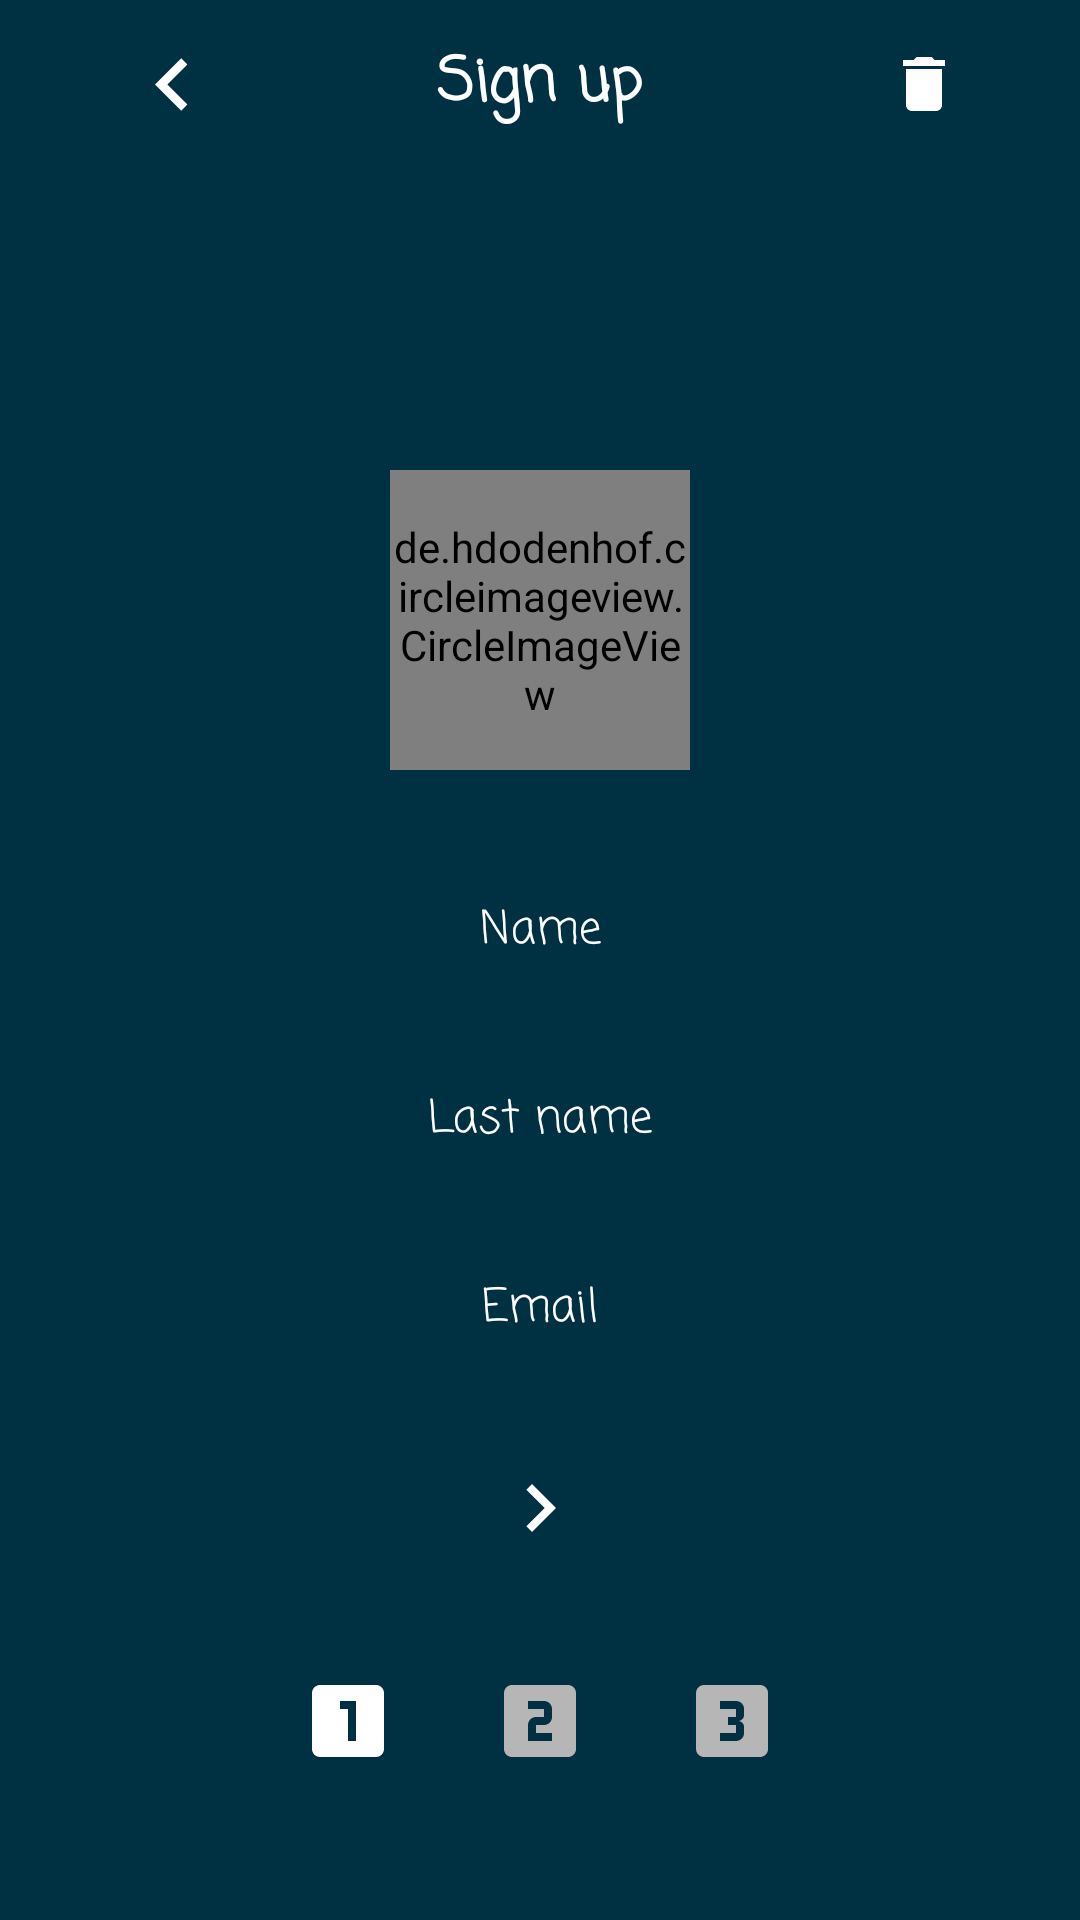

Screen size 1080 × 1920. Icon name, then its box in pixels as (x1, y1, x2, y2):
back: (155, 58, 188, 111)
delete: (903, 57, 945, 111)
next: (526, 1484, 556, 1532)
page one: (312, 1685, 384, 1757)
page trhee: (696, 1685, 768, 1757)
page two: (504, 1685, 576, 1757)
